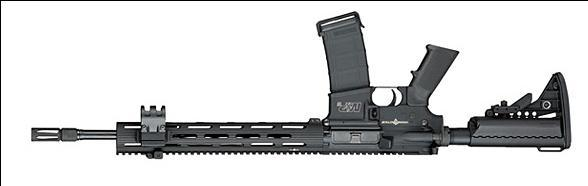gun: (27, 10, 572, 159)
